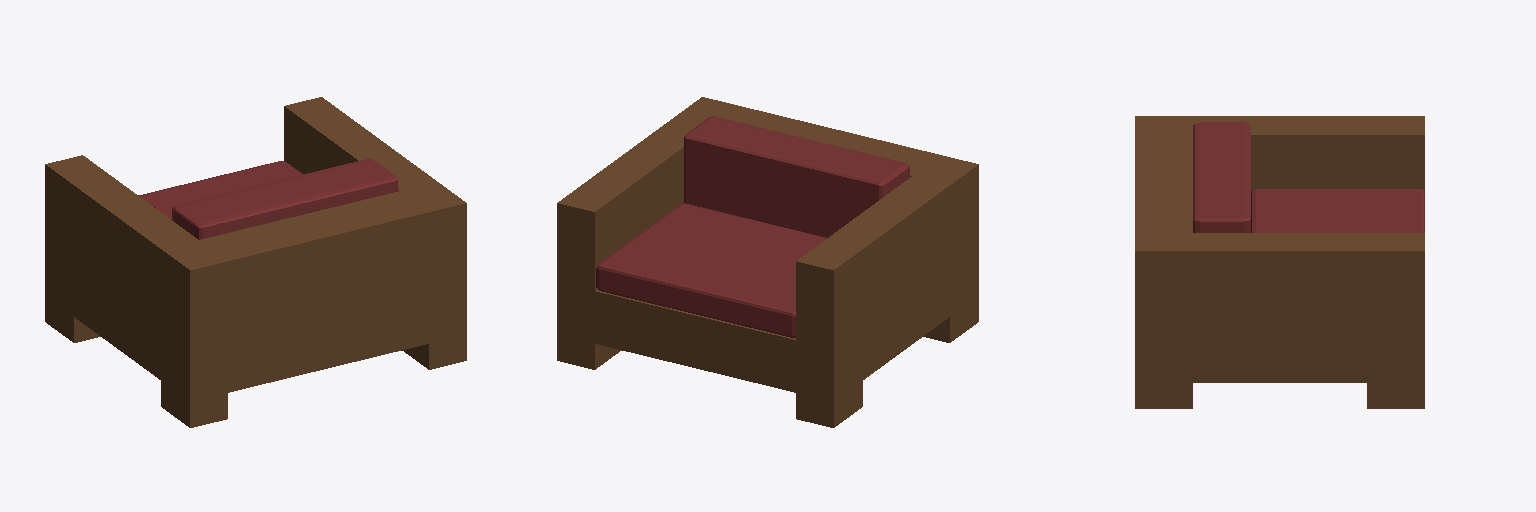
The model's file is sofa_single.obj.
3 views of the same model, side by side, from view 1: azimuth 30°, elevation 25°; view 2: azimuth 150°, elevation 25°; view 3: azimuth 270°, elevation 25° (orthographic).
Visible parts, largest first — view 1: sofa_mesh_Cube.001, back_cushion_mesh_Cube.004, cushion_mesh_Cube.003; view 2: sofa_mesh_Cube.001, cushion_mesh_Cube.003, back_cushion_mesh_Cube.004; view 3: sofa_mesh_Cube.001, cushion_mesh_Cube.003, back_cushion_mesh_Cube.004.
Part boxes in pixels (x1,y1,x2,y2): sofa_mesh_Cube.001: (45,97,466,427); back_cushion_mesh_Cube.004: (172,159,397,239); cushion_mesh_Cube.003: (138,161,302,219); sofa_mesh_Cube.001: (557,97,978,427); cushion_mesh_Cube.003: (596,203,826,337); back_cushion_mesh_Cube.004: (684,116,909,237); sofa_mesh_Cube.001: (1135,116,1424,408); cushion_mesh_Cube.003: (1251,189,1424,232); back_cushion_mesh_Cube.004: (1193,122,1250,232).
Bounding box in the file's own units: 1.1 × 0.65 × 1.